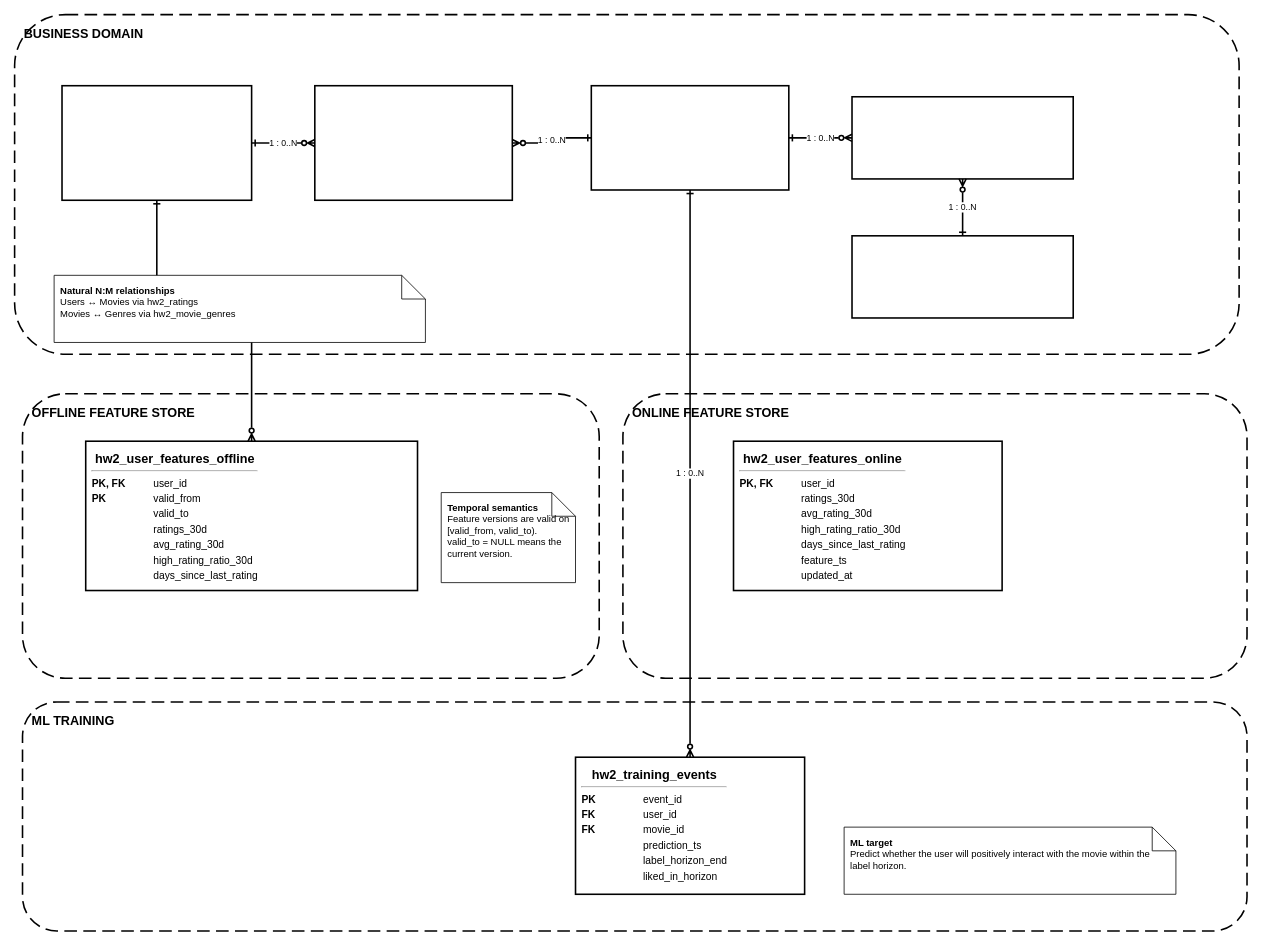
This 1261x945 diagram has some shape labels left out. The shapes that lost their labels are listed below. From the top down, each one's centre as x and y in pixels, then its label:
At point (156, 143): "hw2_users PK user_id age gender occupation zip_code".
At point (413, 143): "hw2_ ratings PK rating_id FK user_id FK movie_id rating rating_ts".
At point (689, 137): "hw2_ movies PK movie_id title release_date".
At point (962, 137): "hw2_ movie_genres PK, FK movie_id PK, FK genre_id".
At point (962, 276): "hw2_ genres PK genre_id genre_name".
